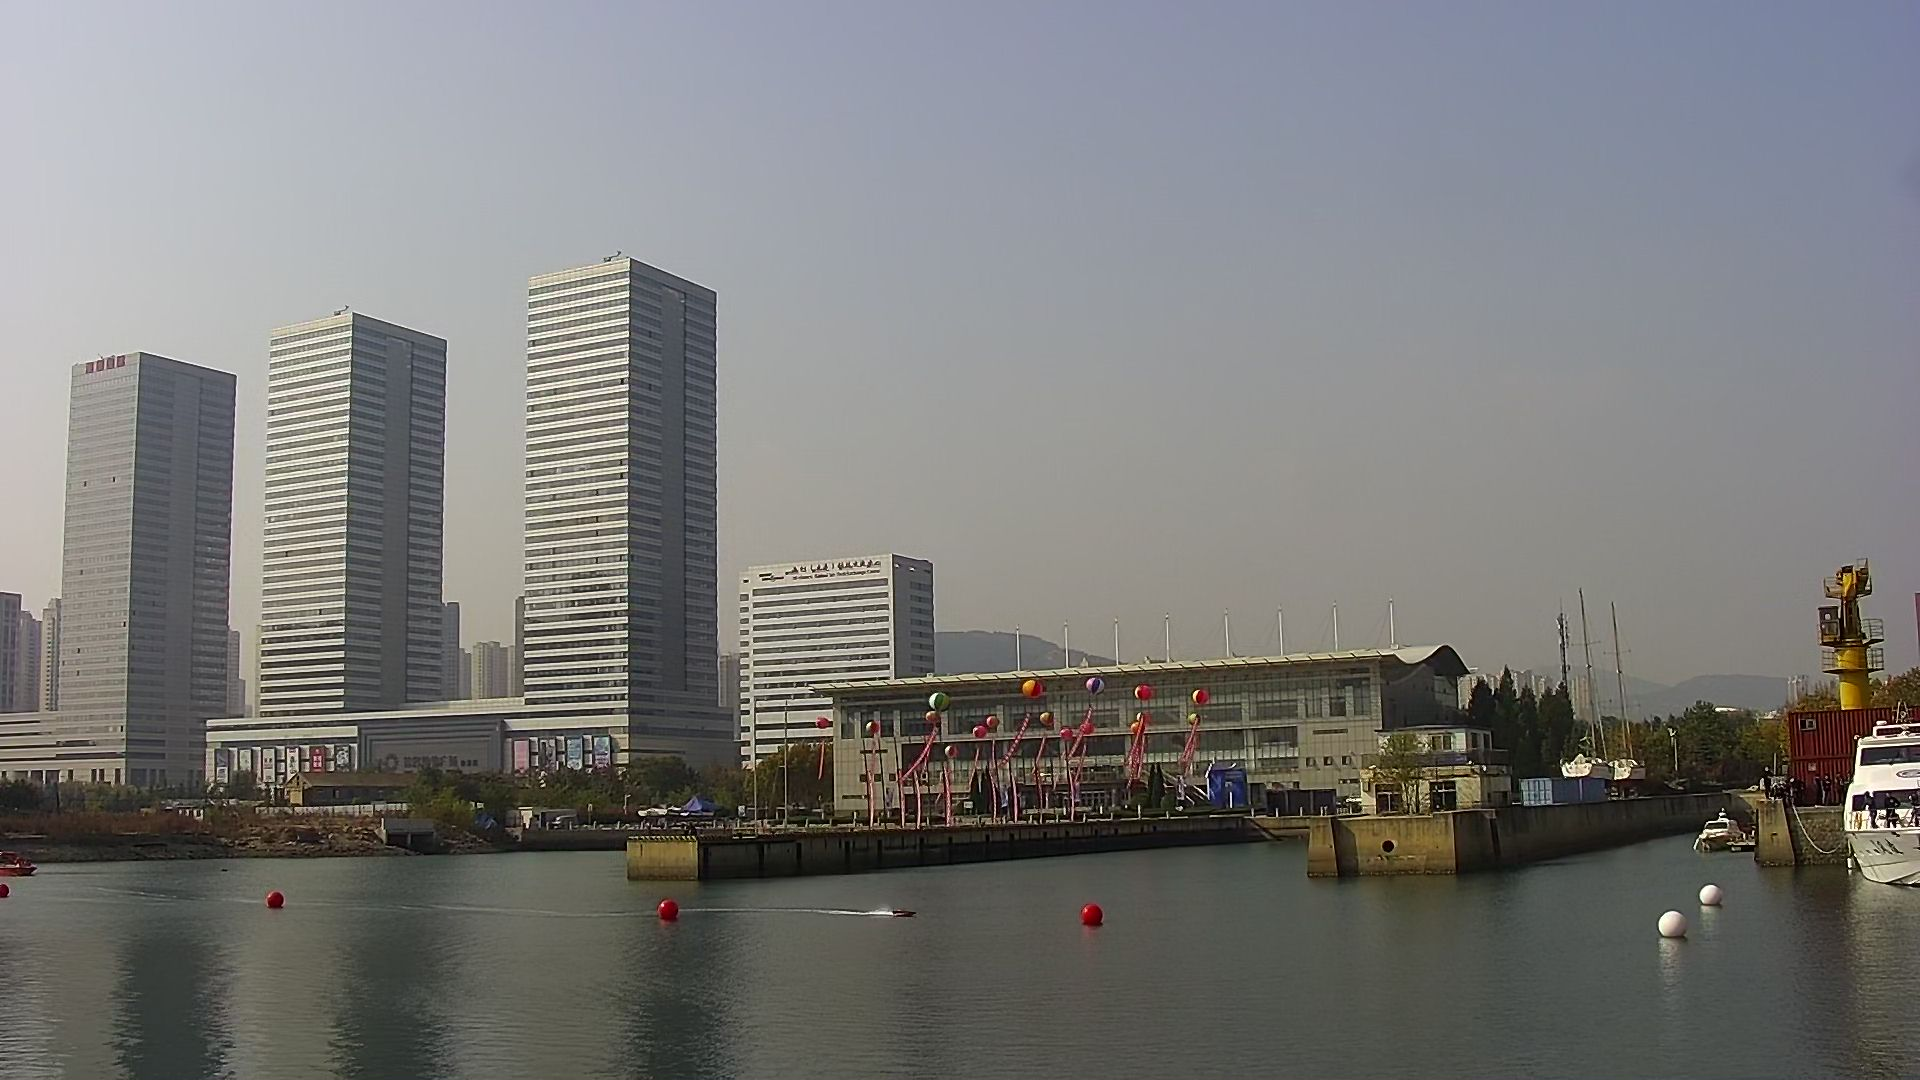ball: (1654, 907, 1688, 942), (1695, 880, 1726, 911), (654, 897, 684, 920), (266, 887, 287, 910), (1083, 903, 1105, 924)
boat: (886, 901, 919, 922)
ship: (1697, 808, 1745, 855)
